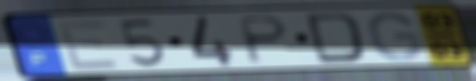4: (190, 14, 237, 68)
5: (116, 18, 169, 69)
D: (302, 10, 369, 65)
E: (54, 18, 122, 71)
G: (365, 10, 425, 62)
P: (237, 14, 292, 66)
